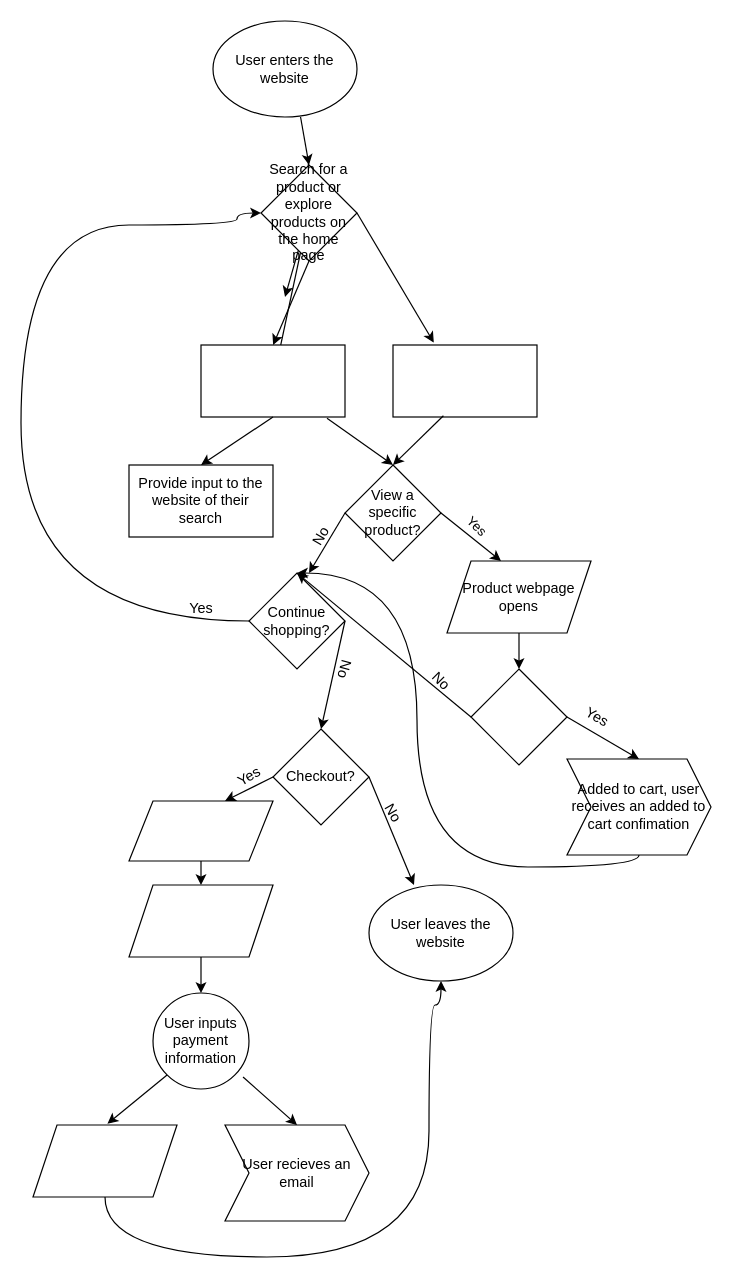
This 732x1278 diagram has some shape labels left out. The shapes that lost their labels are listed below. From the top down, each one's centre as x and y in pixels, then its label:
pixel 272 380: Search for a product
pixel 464 380: Exploring the products on the home page
pixel 518 716: Add to cart?
pixel 200 830: Go to the view cart screen
pixel 200 920: Go to the view payment screen
pixel 104 1160: Go to the order confirmation screen
